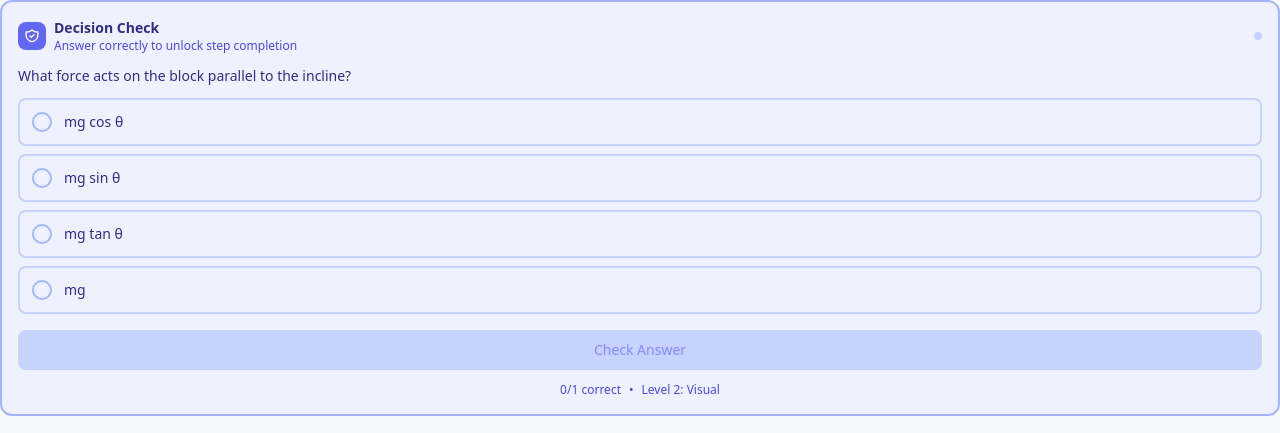
Test: DecisionGate › MCQ Selection › allows selecting an option
The image size is (1280, 433).
Click the button "mg sin θ".
click(92, 178)  # box [18,154,1262,202]
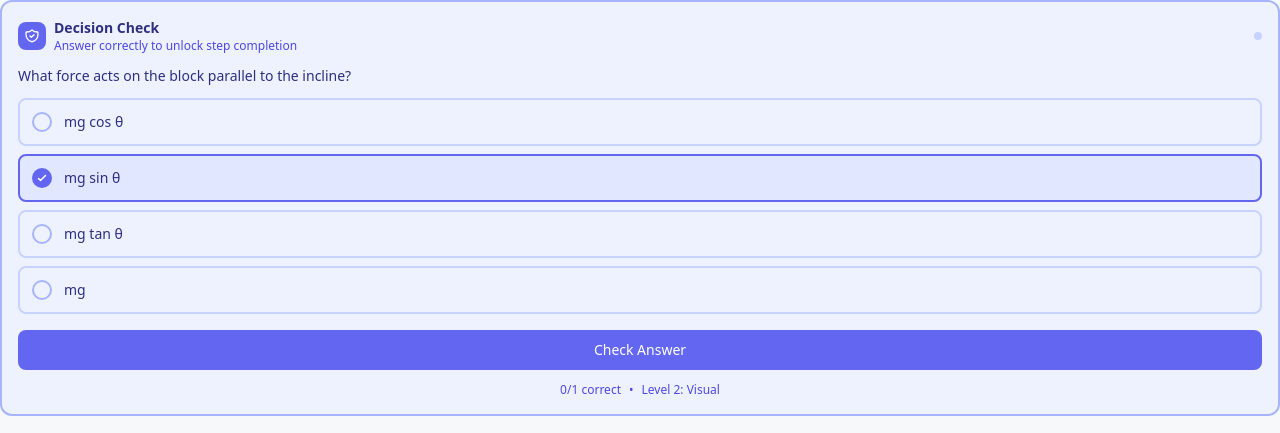
Check: the button "Check Answer" is enabled, box [18,330,1262,370]
